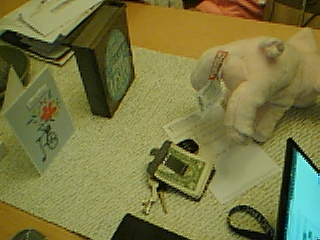piggy: (188, 26, 320, 145)
